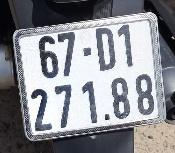1: (81, 80, 100, 126), (118, 23, 137, 67)
2: (30, 88, 53, 132)
6: (37, 34, 60, 78)
7: (53, 83, 78, 130), (58, 30, 77, 77)
8: (111, 77, 131, 122), (135, 73, 155, 117)
D: (95, 26, 117, 73)
